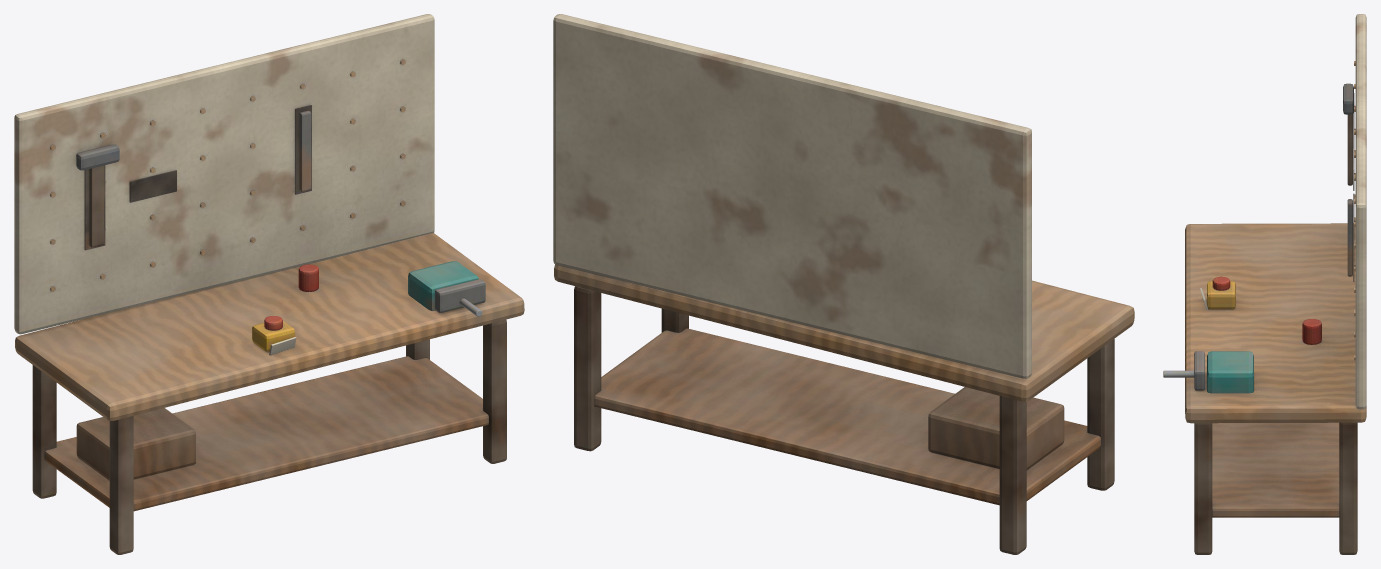
Rendered from workbench.glb.
3 renders of one model, left to right at view 1: azimuth 30°, elevation 25°; view 2: azimuth 150°, elevation 25°; view 3: azimuth 270°, elevation 25°, orthographic. The views are drawn at different scales.
Parts seen in each view (by area): view 1: Workbench_Mesh; view 2: Workbench_Mesh; view 3: Workbench_Mesh.
Part boxes in pixels (x1,y1,x2,y2): Workbench_Mesh: (14, 14, 524, 554); Workbench_Mesh: (553, 14, 1134, 554); Workbench_Mesh: (1163, 14, 1366, 554).
Bounding box in the file's own units: 2.5 × 2.18 × 1.12.
Materials: 1 (1 with a texture image).
